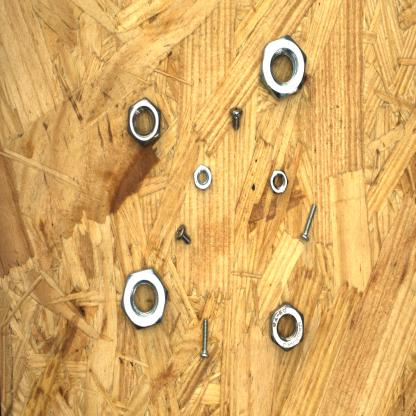screw: (296, 195, 324, 248), (199, 309, 216, 367), (228, 95, 248, 137), (172, 219, 195, 253)
